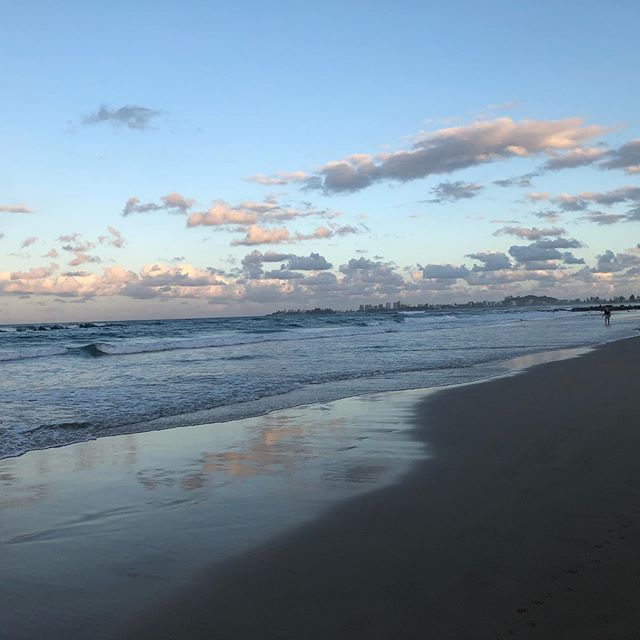beach: (12, 357, 640, 636)
sea: (1, 308, 627, 424)
sky: (13, 1, 640, 304)
